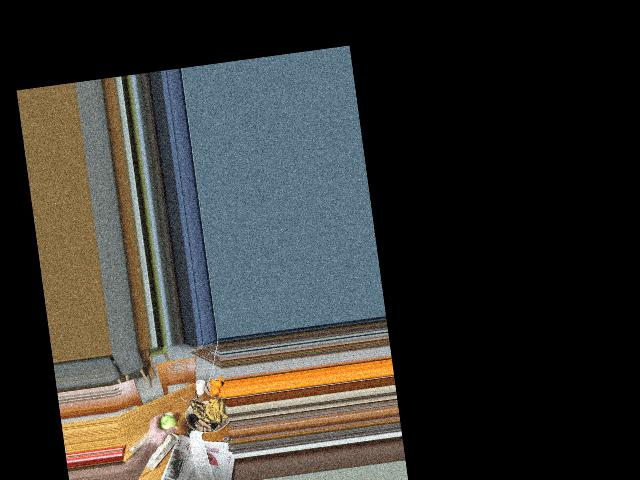apple: (153, 413, 179, 437)
